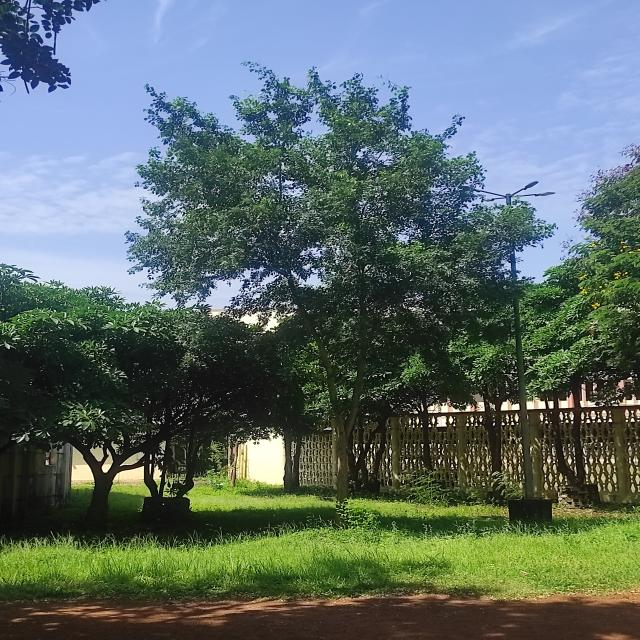Devakanchan tree: (149, 60, 511, 426)
